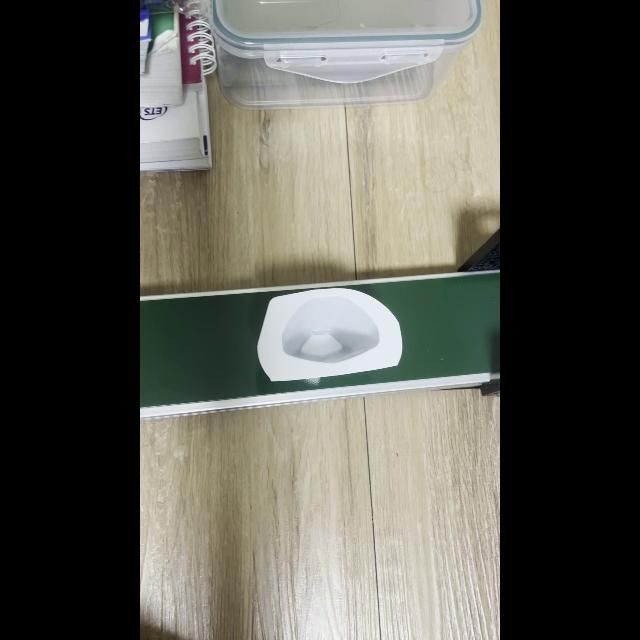clean: (263, 292, 389, 368)
